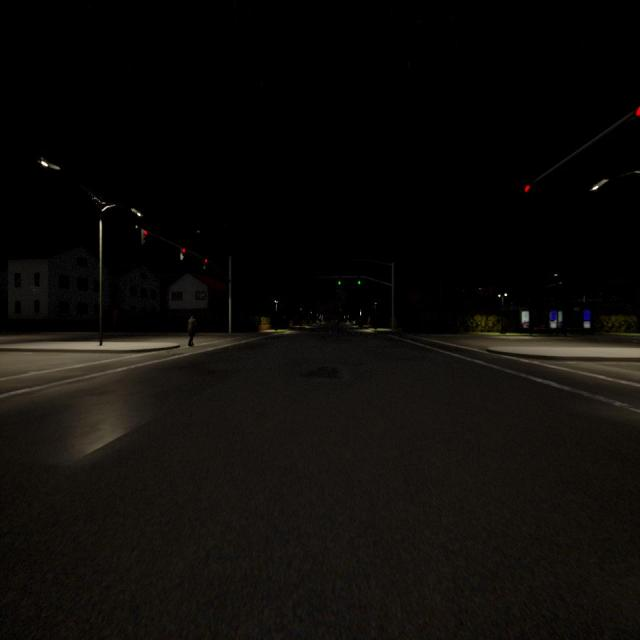Pedestrian: (188, 316, 196, 346)
traffic_light: (142, 230, 147, 243), (181, 248, 185, 260), (524, 185, 530, 192), (636, 107, 640, 116), (204, 259, 207, 268), (338, 278, 341, 285), (358, 278, 361, 284)
